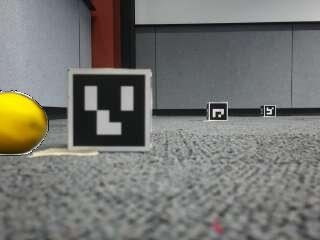lemon: (0, 93, 47, 155)
